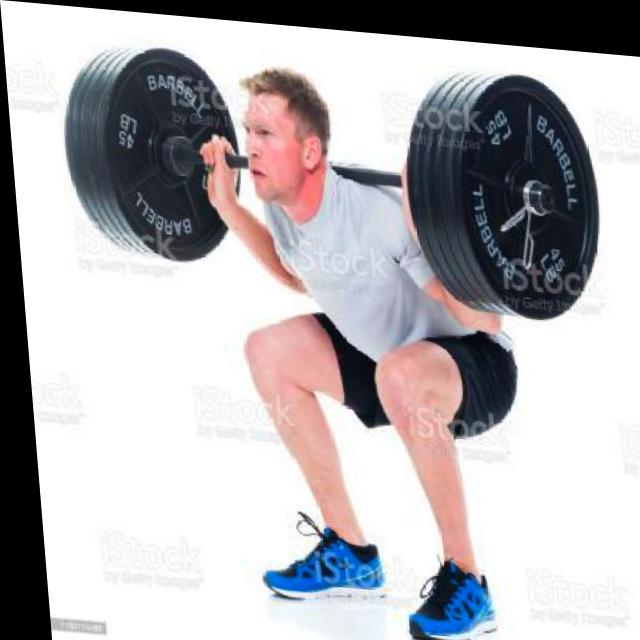barbell: (454, 60, 605, 318)
